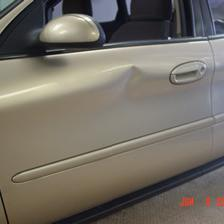dent: (124, 60, 146, 105)
